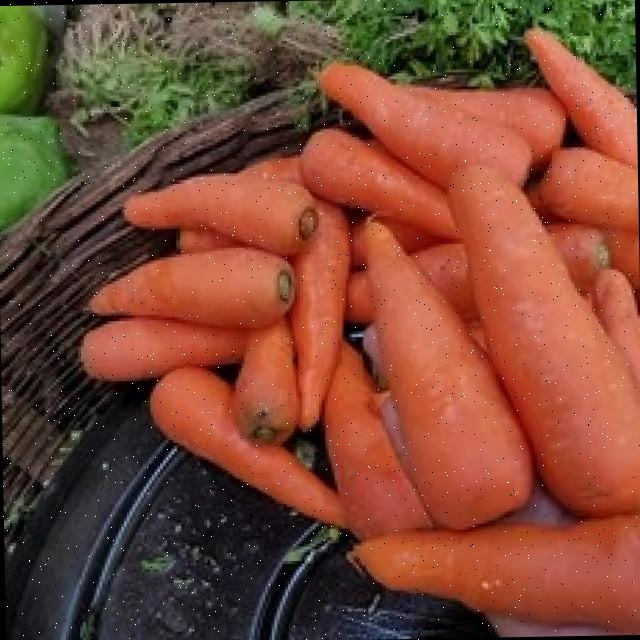carrot: (78, 25, 640, 629)
